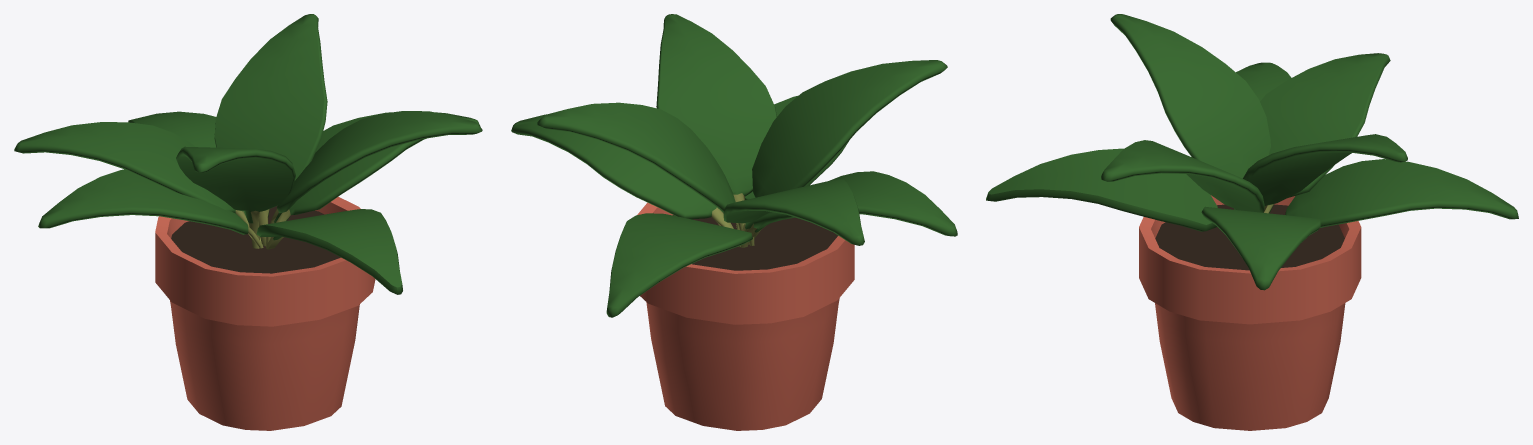
File: DakotaBetterFern.fbx
3 views of the same model, side by side, from view 1: azimuth 30°, elevation 25°; view 2: azimuth 150°, elevation 25°; view 3: azimuth 270°, elevation 25° (orthographic).
Parts seen in each view (by area): view 1: pCube4; view 2: pCube4; view 3: pCube4.
Part boxes in pixels (bbox=[...]): pCube4: bbox=[14, 14, 482, 430]; pCube4: bbox=[511, 14, 957, 430]; pCube4: bbox=[986, 14, 1518, 430].
Bounding box in the file's own units: 4.11 × 2.8 × 4.24.
